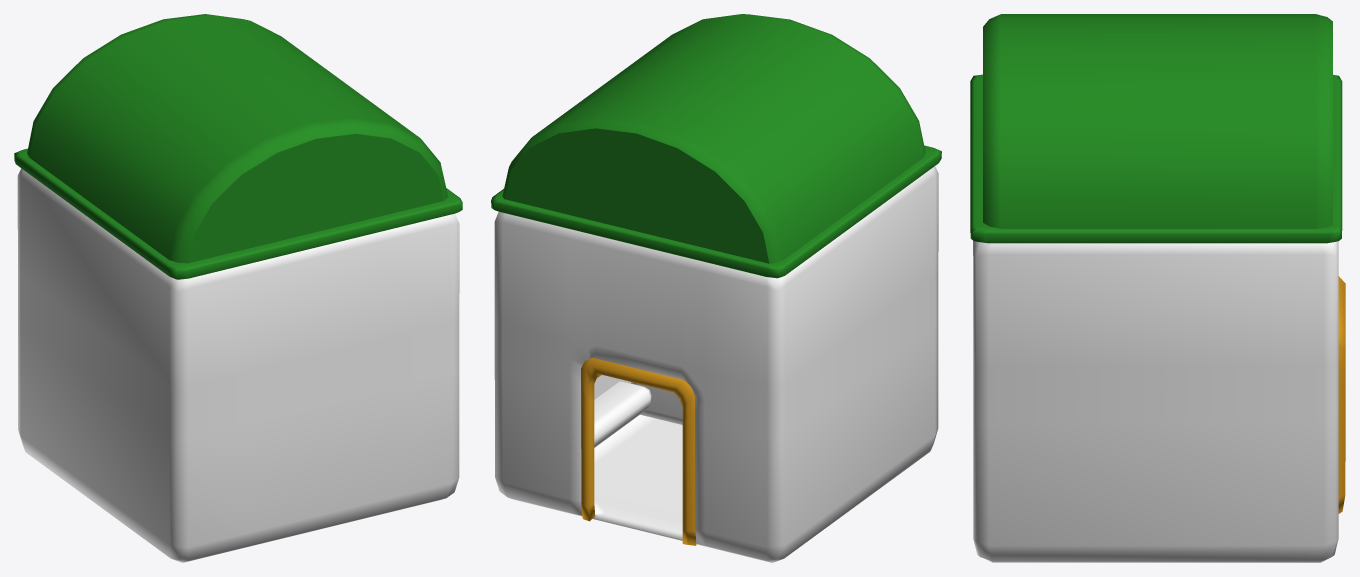
The model's file is HouseNormalGreekSpherical.fbx.
3 renders of one model, left to right at view 1: azimuth 30°, elevation 25°; view 2: azimuth 150°, elevation 25°; view 3: azimuth 270°, elevation 25°, orthographic. The views are drawn at different scales.
Visible parts, largest first — view 1: HouseNormal2, pCylinder1, polySurface5; view 2: HouseNormal2, pCylinder1, polySurface5, polySurface4, polySurface2; view 3: HouseNormal2, pCylinder1, polySurface5, polySurface4.
Boxes of the visible parts, x1,y1,x2,y2 form: HouseNormal2: (17, 168, 459, 562); pCylinder1: (27, 14, 447, 263); polySurface5: (14, 148, 462, 279); HouseNormal2: (494, 166, 938, 562); pCylinder1: (502, 14, 925, 263); polySurface5: (491, 145, 941, 278); polySurface4: (581, 357, 696, 545); polySurface2: (594, 381, 682, 447); HouseNormal2: (973, 241, 1338, 562); pCylinder1: (983, 14, 1332, 228); polySurface5: (970, 74, 1342, 243); polySurface4: (1338, 276, 1345, 513).
Bounding box in the file's own units: 2.17 × 2.89 × 2.16.
1 material, 1 textured.
